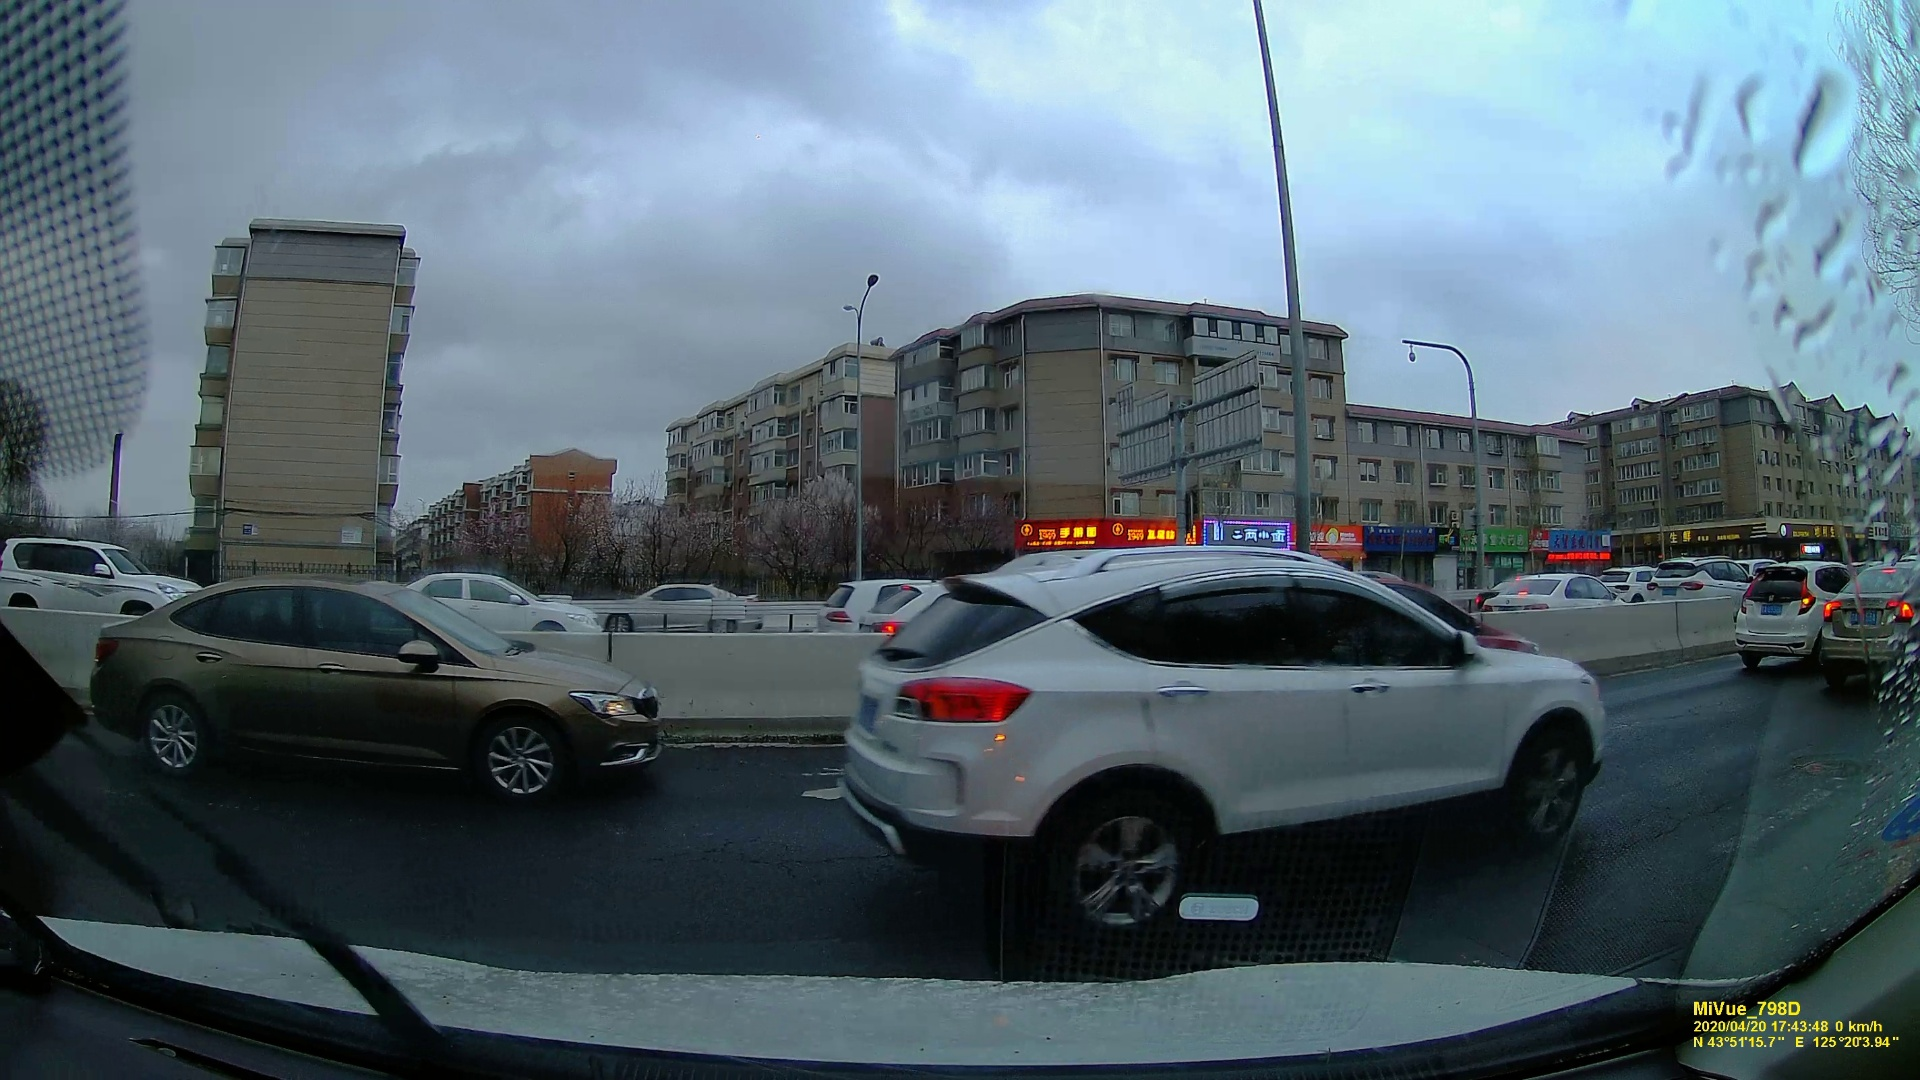vehicle: (847, 551, 1615, 914), (92, 582, 669, 802), (1, 538, 190, 626), (1731, 560, 1844, 673), (429, 568, 595, 637), (1824, 564, 1920, 676), (605, 576, 756, 630), (1484, 572, 1625, 615), (1648, 559, 1741, 601), (812, 574, 873, 636)
